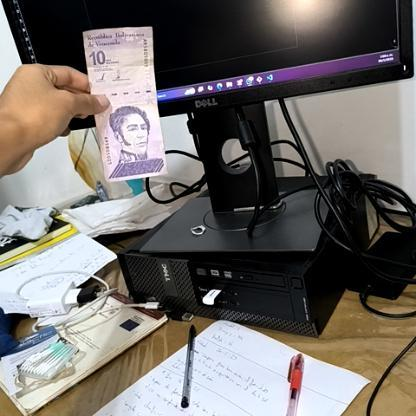ten-front-vef: (80, 25, 168, 182)
